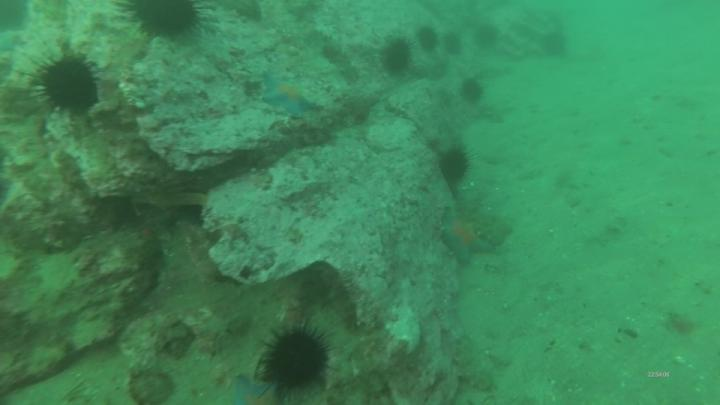echinus: (266, 332, 327, 388), (38, 59, 100, 109), (131, 3, 200, 34), (442, 149, 470, 184), (384, 41, 413, 69), (421, 28, 441, 56), (466, 80, 485, 101), (449, 35, 465, 56)
holothurian: (458, 337, 495, 392)
starfish: (443, 211, 491, 263), (266, 74, 321, 115)
